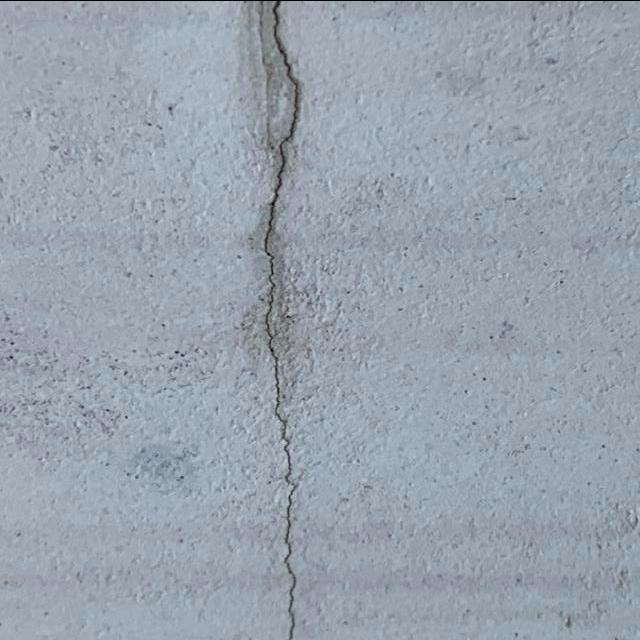SurfaceCrack: (227, 0, 337, 640)
